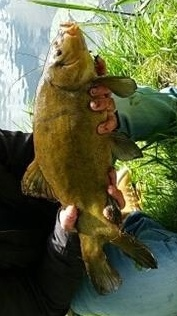Tinca tinca: (20, 20, 157, 296)
